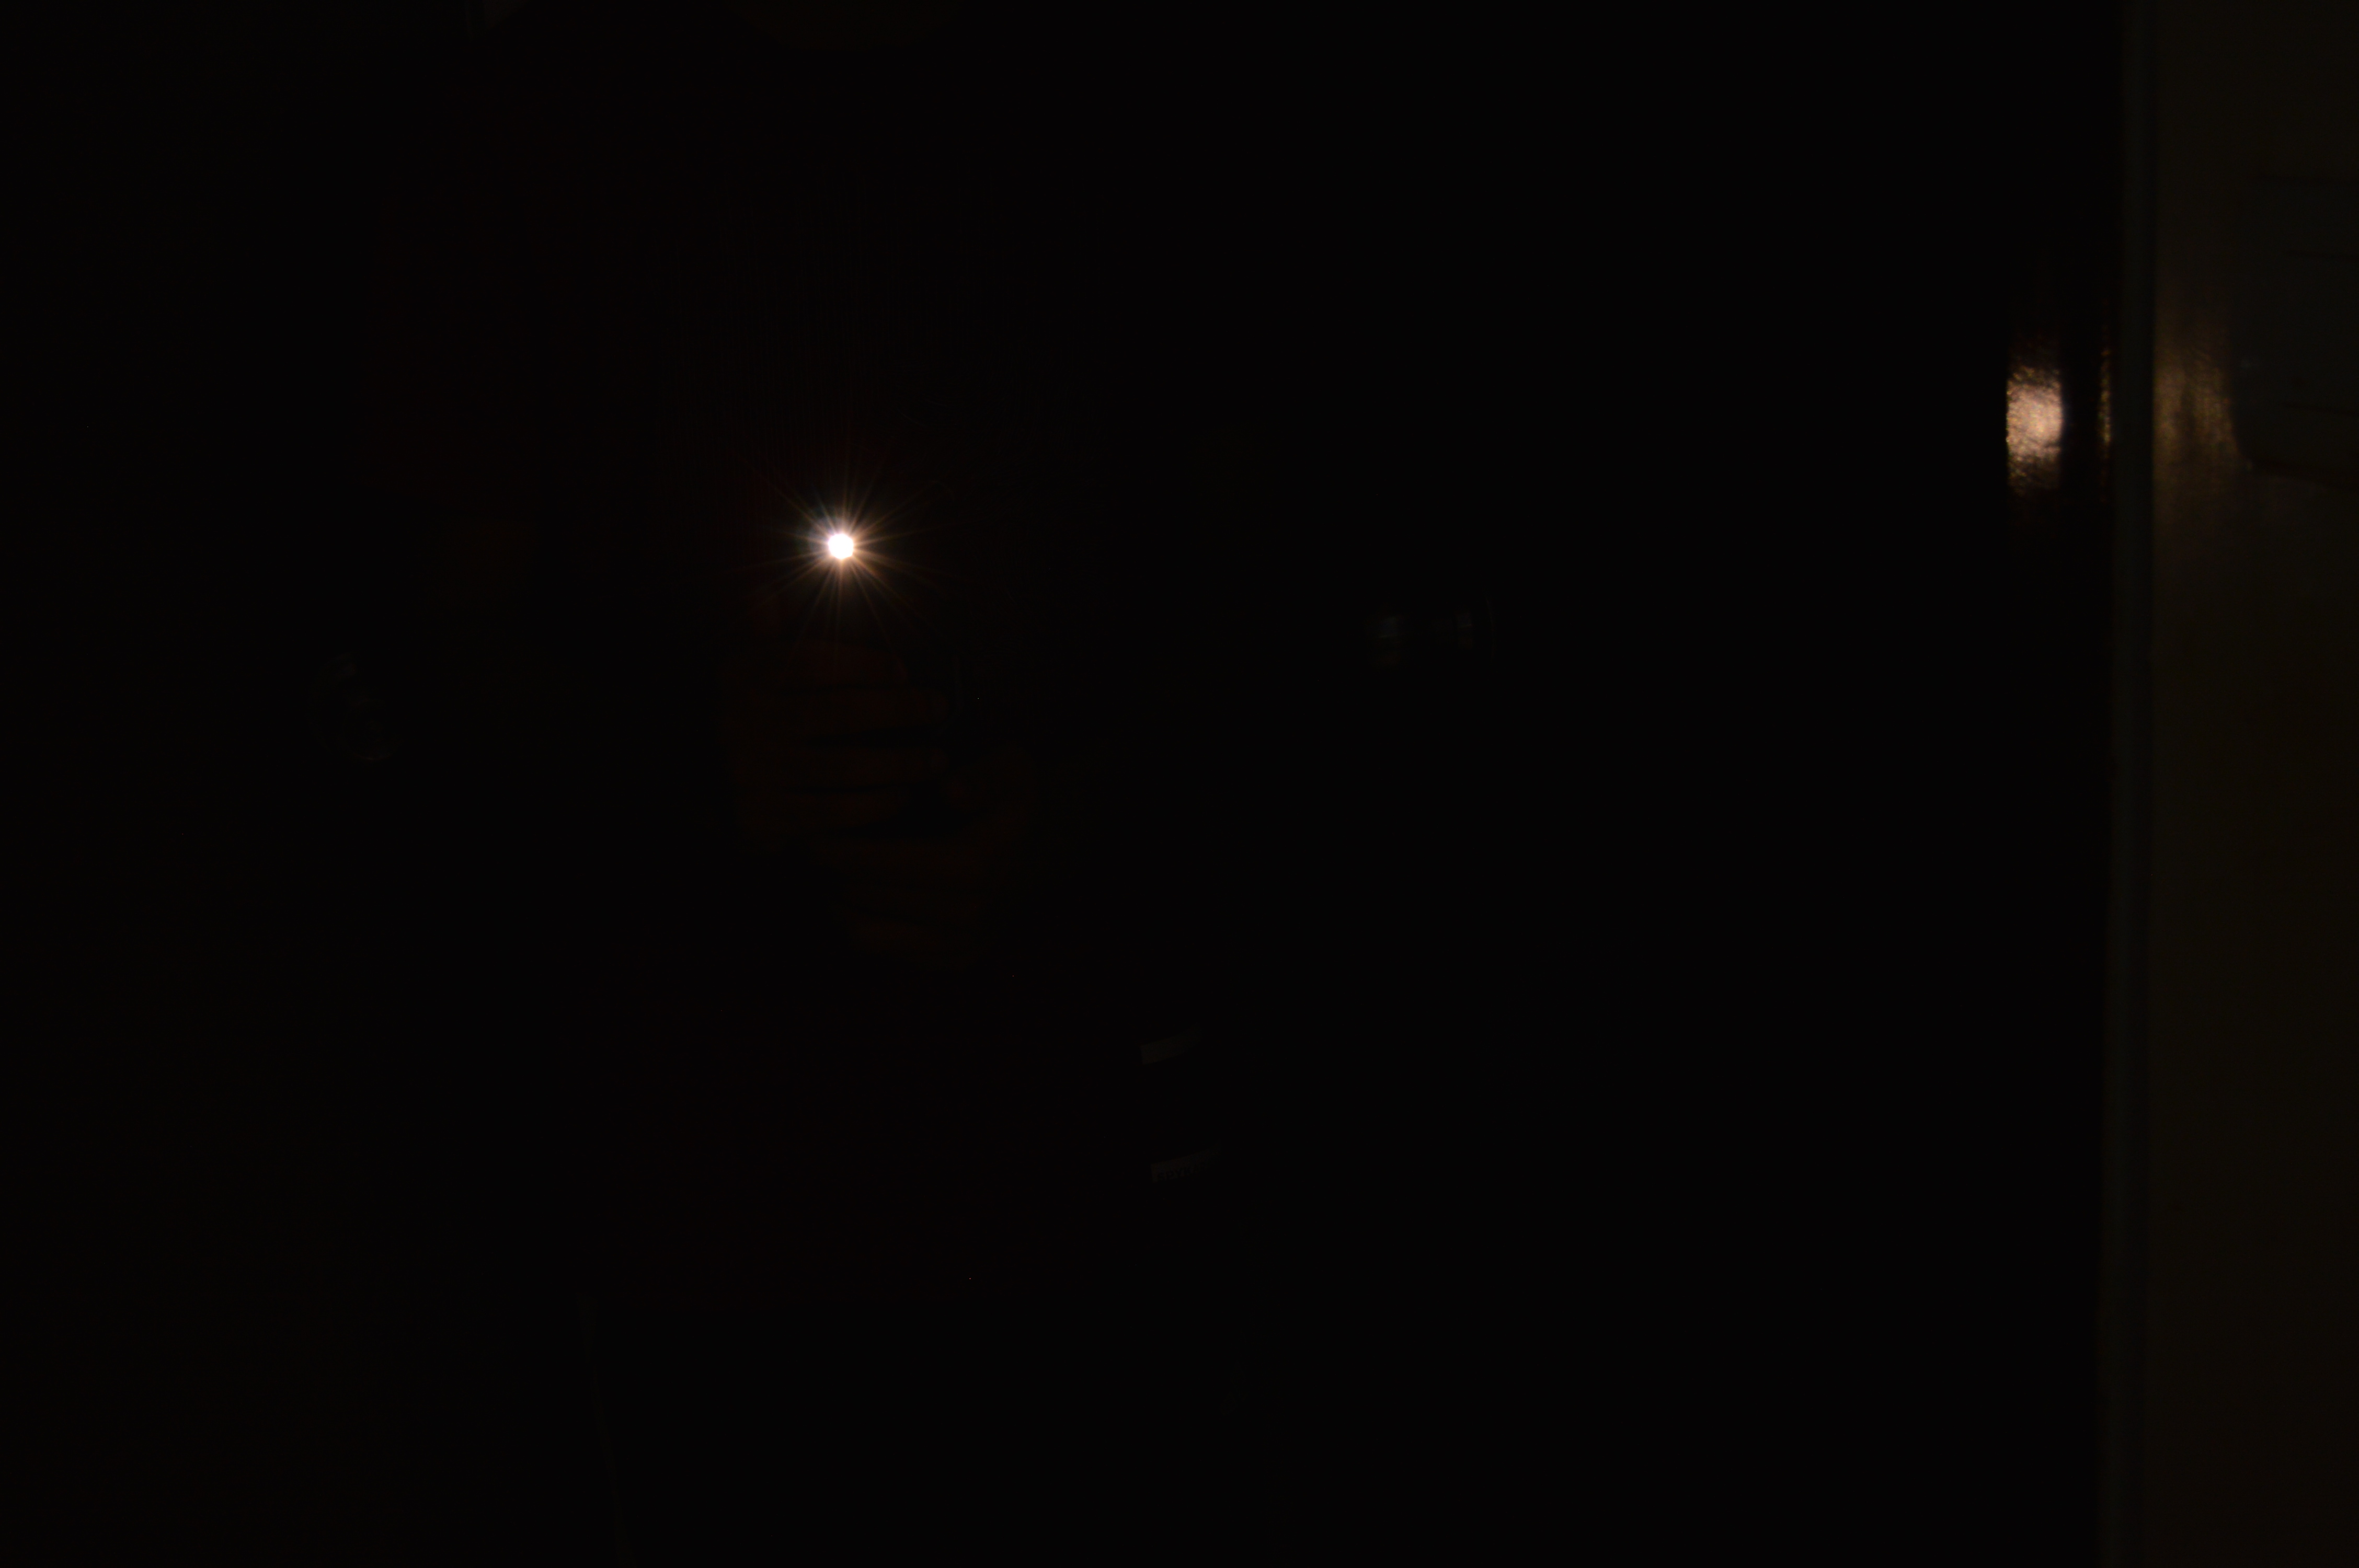Glare: (809, 514, 879, 576)
